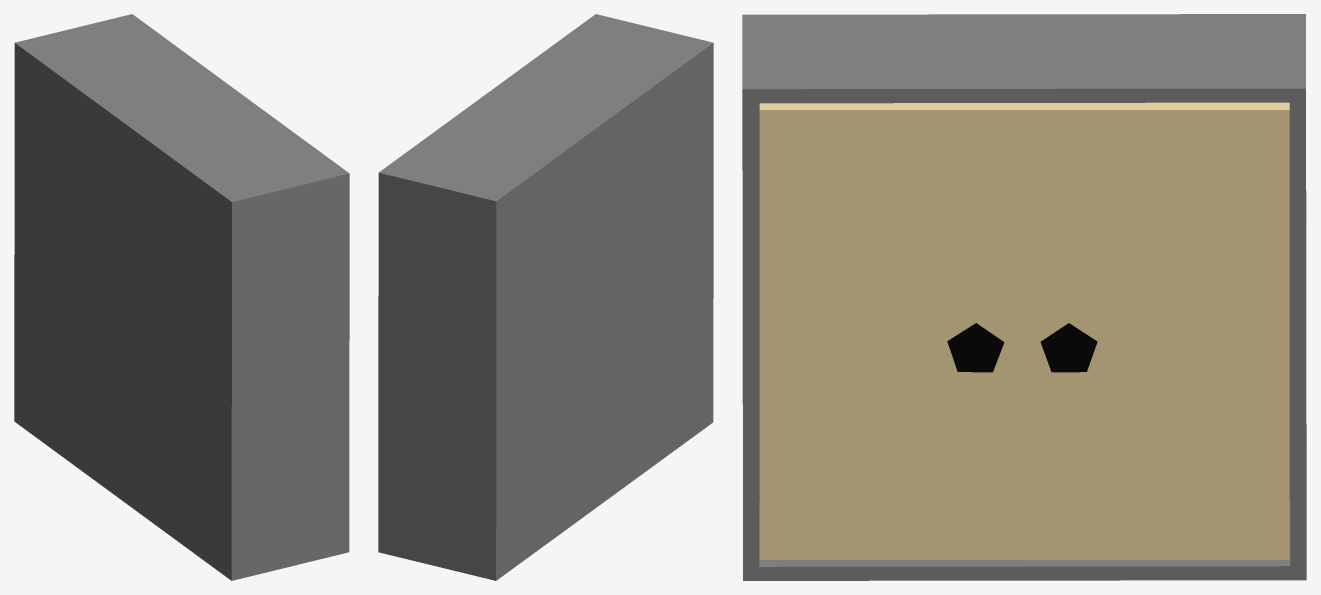
Rendered from Cupboard.fbx.
3 views of the same model, side by side, from view 1: azimuth 30°, elevation 25°; view 2: azimuth 150°, elevation 25°; view 3: azimuth 270°, elevation 25° (orthographic). The views are drawn at different scales.
Parts seen in each view (by area): view 1: Cube; view 2: Cube; view 3: Cube.001, Cube.002, Cube, Cone.001, Cone.
Boxes of the visible parts, x1,y1,x2,y2 form: Cube: (14,14,349,580); Cube: (378,14,713,580); Cube.001: (1021,102,1289,559); Cube.002: (759,103,1027,559); Cube: (742,14,1306,580); Cone.001: (1040,323,1097,372); Cone: (947,323,1004,372).
Size of the model in its own units: 309 by 799 by 830.
